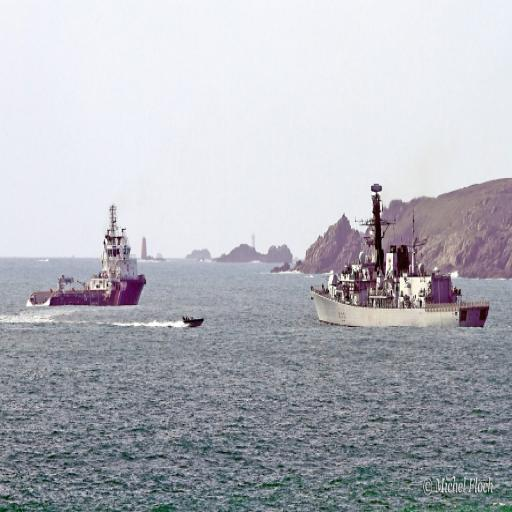Fragata: (310, 176, 495, 336)
